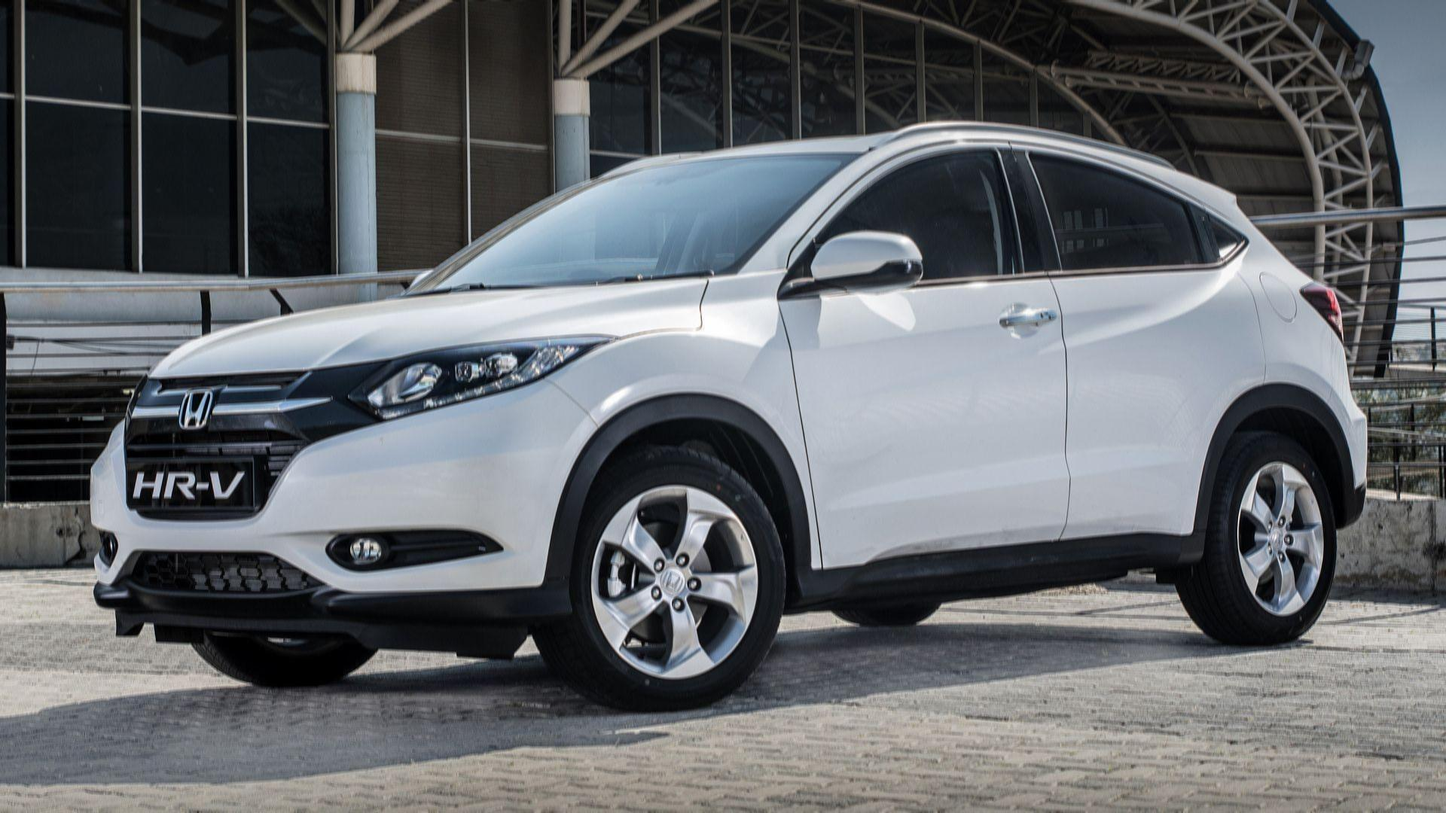Car hood: (137, 274, 718, 377)
Fender - -F-L-: (526, 257, 839, 596)
Fender - -R-L-: (1204, 160, 1362, 515)
Front bumper: (75, 379, 605, 647)
Headlight - -L-: (345, 331, 605, 427)
Passenger-s door - -F-L-: (768, 113, 1081, 607)
Passenger-s door - -R-L-: (1011, 108, 1269, 633)
Rear bumper: (1319, 404, 1379, 546)
Rear light - -L-: (1299, 275, 1349, 357)
Side bumper - -L-: (782, 517, 1200, 624)
Side mirror - -L-: (772, 227, 921, 311)
